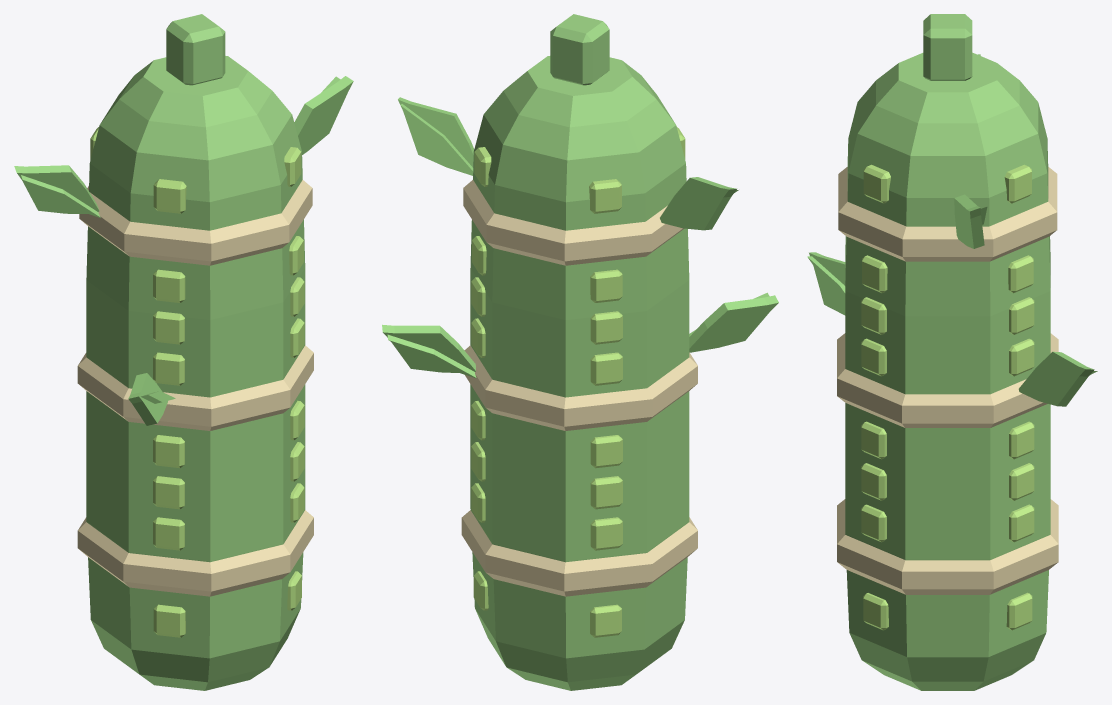
Rendered from SamuraiBambooCucumber.fbx.
3 views of the same model, side by side, from view 1: azimuth 30°, elevation 25°; view 2: azimuth 150°, elevation 25°; view 3: azimuth 270°, elevation 25° (orthographic).
Visible parts, largest first — view 1: SamuraiBambooCucumber.Body, SamuraiBambooCucumber.Bands, SamuraiBambooCucumber.Studs, SamuraiBambooCucumber.Leaves; view 2: SamuraiBambooCucumber.Body, SamuraiBambooCucumber.Bands, SamuraiBambooCucumber.Leaves, SamuraiBambooCucumber.Studs; view 3: SamuraiBambooCucumber.Body, SamuraiBambooCucumber.Bands, SamuraiBambooCucumber.Studs, SamuraiBambooCucumber.Leaves.
Part boxes in pixels (left/top/right/bottom): SamuraiBambooCucumber.Body: left=86, top=14, right=305, bottom=690; SamuraiBambooCucumber.Bands: left=77, top=180, right=313, bottom=596; SamuraiBambooCucumber.Studs: left=90, top=127, right=304, bottom=637; SamuraiBambooCucumber.Leaves: left=14, top=76, right=353, bottom=425; SamuraiBambooCucumber.Body: left=470, top=14, right=689, bottom=690; SamuraiBambooCucumber.Bands: left=461, top=180, right=697, bottom=596; SamuraiBambooCucumber.Leaves: left=382, top=97, right=778, bottom=378; SamuraiBambooCucumber.Studs: left=471, top=127, right=685, bottom=637; SamuraiBambooCucumber.Body: left=845, top=14, right=1050, bottom=690; SamuraiBambooCucumber.Bands: left=837, top=167, right=1058, bottom=594; SamuraiBambooCucumber.Studs: left=861, top=164, right=1034, bottom=630; SamuraiBambooCucumber.Leaves: left=807, top=54, right=1097, bottom=406.
Size of the model in its own units: 2.4 by 4.34 by 1.78.
